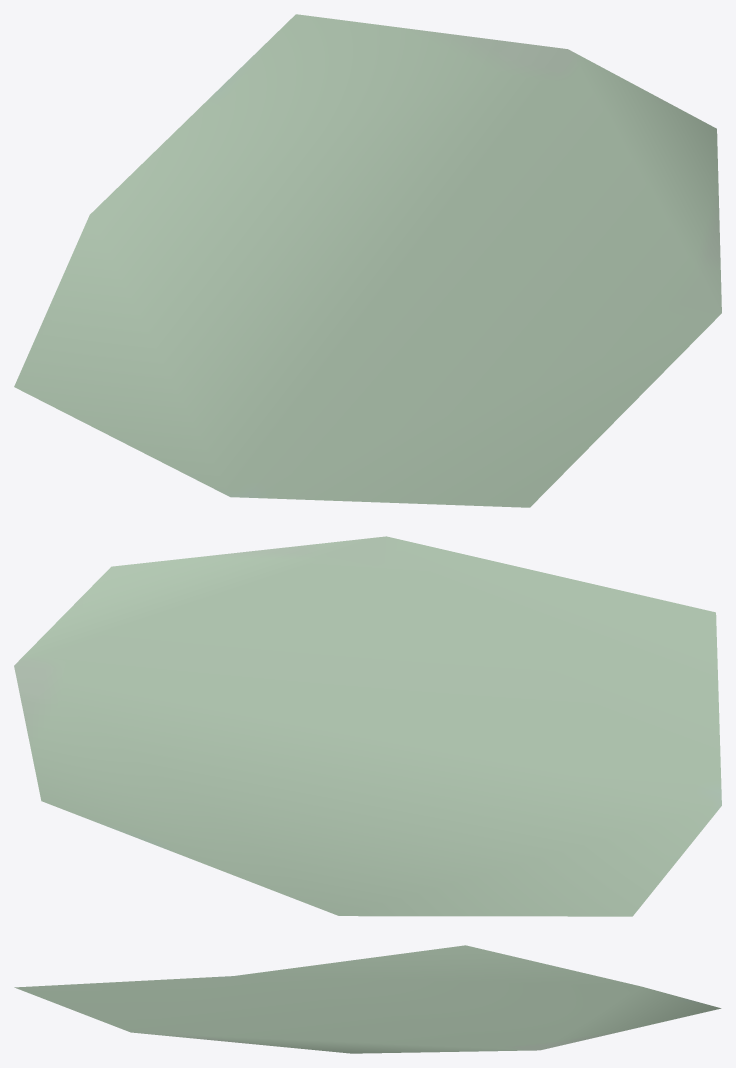
The model's file is TROLLHOLE02_HOLECAP172.fbx.
3 views of the same model, one above another, from view 1: azimuth 30°, elevation 25°; view 2: azimuth 150°, elevation 25°; view 3: azimuth 270°, elevation 25° (orthographic). The views are drawn at different scales.
Parts seen in each view (by area): view 1: TROLLHOLE02_HOLECAP172; view 2: TROLLHOLE02_HOLECAP172; view 3: TROLLHOLE02_HOLECAP172.
Part boxes in pixels (x1=…): TROLLHOLE02_HOLECAP172: x1=14, y1=14, x2=721, y2=507; TROLLHOLE02_HOLECAP172: x1=14, y1=536, x2=721, y2=916; TROLLHOLE02_HOLECAP172: x1=14, y1=945, x2=721, y2=1053.
Size of the model in its own units: 30109 by 7911 by 39380.
1 material, 1 textured.
